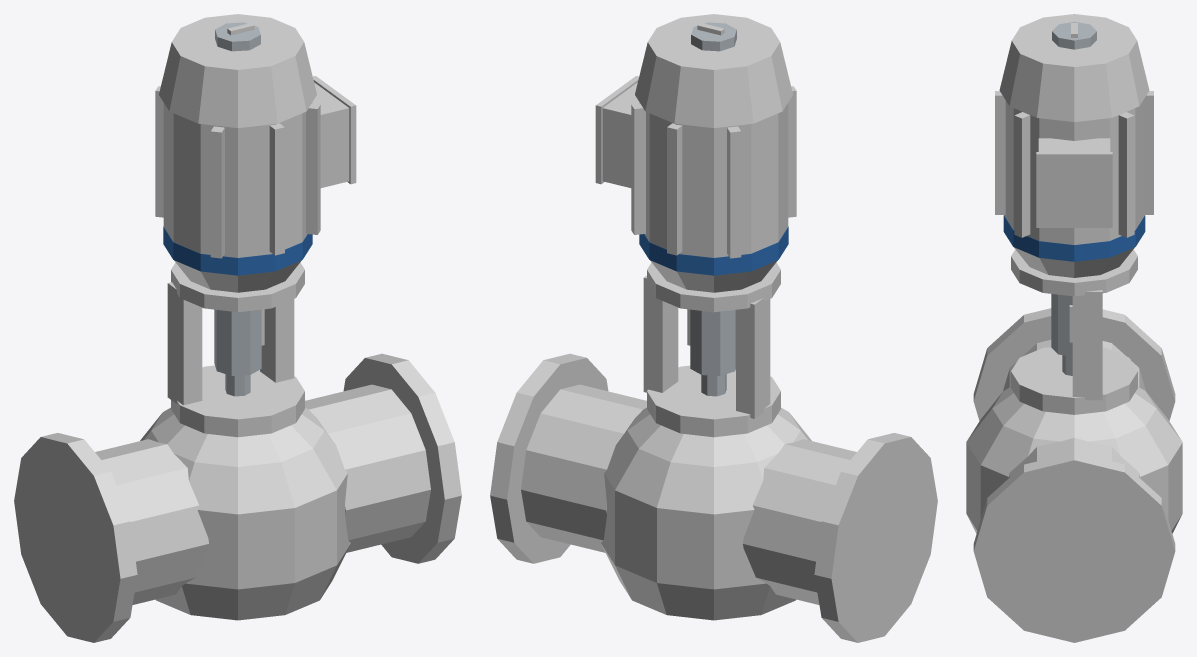
Rendered from pump-inline.glb.
The picture shows the model from 3 angles, left to right: view 1: azimuth 30°, elevation 25°; view 2: azimuth 150°, elevation 25°; view 3: azimuth 270°, elevation 25°; orthographic projection. The views are drawn at different scales.
Visible parts, largest first — view 1: volute, in.flange, motor.frame, motor.fan.cowl, out.stub, in.stub, out.flange, lantern.lower, lantern.leg.0, coupling, lantern.upper, motor.terminal.box (+9 smaller); view 2: volute, in.flange, motor.frame, motor.fan.cowl, out.stub, in.stub, out.flange, lantern.lower, lantern.leg.0, lantern.leg.1, lantern.upper, coupling (+9 smaller); view 3: out.flange, volute, motor.fan.cowl, motor.frame, in.flange, motor.terminal.lid, lantern.lower, lantern.leg.1, lantern.upper, motor.drive.band, motor.fin.1, motor.fin.7 (+8 smaller).
Part boxes in pixels (x1,y1,x2,y2): volute: [140, 407, 350, 620]; in.flange: [14, 433, 137, 642]; motor.frame: [163, 103, 312, 257]; motor.fan.cowl: [159, 14, 316, 127]; out.stub: [305, 384, 430, 552]; in.stub: [95, 439, 208, 604]; out.flange: [343, 353, 461, 563]; lantern.lower: [171, 365, 304, 437]; lantern.leg.0: [167, 282, 202, 405]; coupling: [214, 309, 261, 375]; lantern.upper: [171, 262, 304, 312]; motor.terminal.box: [312, 82, 349, 187]; volute: [601, 407, 811, 620]; in.flange: [814, 433, 937, 642]; motor.frame: [639, 103, 788, 257]; motor.fan.cowl: [635, 14, 792, 127]; out.stub: [521, 384, 646, 552]; in.stub: [743, 439, 856, 604]; out.flange: [490, 353, 608, 563]; lantern.lower: [647, 365, 780, 437]; lantern.leg.0: [736, 298, 770, 418]; lantern.leg.1: [643, 275, 678, 392]; lantern.upper: [647, 262, 780, 312]; coupling: [690, 309, 735, 375]; out.flange: [973, 452, 1175, 642]; volute: [966, 387, 1182, 533]; motor.fan.cowl: [999, 14, 1149, 121]; motor.frame: [1004, 100, 1144, 244]; in.flange: [973, 308, 1175, 420]; motor.terminal.lid: [1036, 152, 1112, 227]; lantern.lower: [1011, 347, 1137, 414]; lantern.leg.1: [1072, 290, 1102, 400]; lantern.upper: [1011, 249, 1137, 296]; motor.drive.band: [1003, 215, 1145, 261]; motor.fin.1: [1014, 112, 1030, 237]; motor.fin.7: [1118, 112, 1134, 237].
Bounding box in the file's own units: 1 × 1.6 × 0.58.
